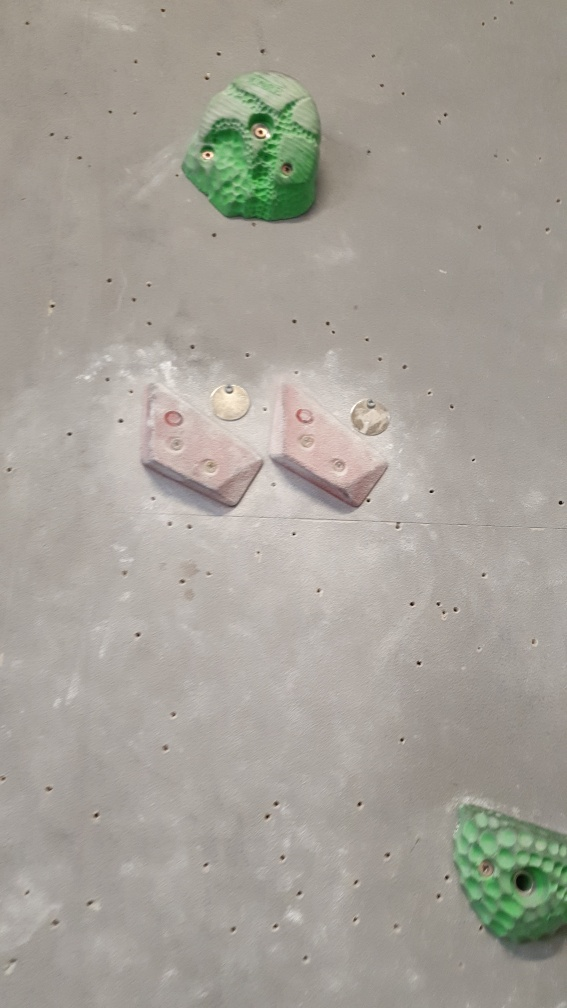Crimp: (138, 382, 265, 512), (266, 380, 391, 508)
Hand Start: (208, 382, 253, 421), (351, 397, 392, 438)
Jug: (181, 71, 322, 228)
